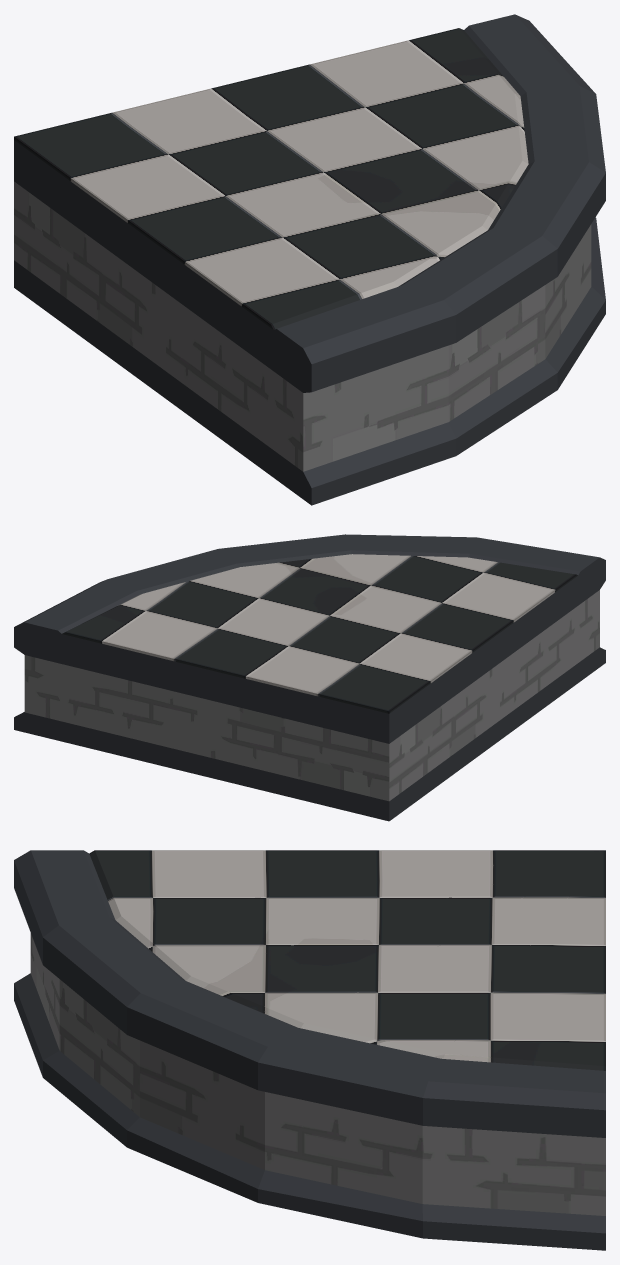
The model's file is SM_Prop_Platform_02_Corner_L_01.obj.
The picture shows the model from 3 angles, top to bottom: view 1: azimuth 30°, elevation 25°; view 2: azimuth 150°, elevation 25°; view 3: azimuth 270°, elevation 25°; orthographic projection. The views are drawn at different scales.
Parts seen in each view (by area): view 1: SM_Prop_Platform_02_Corner_L_01_2, SM_Prop_Platform_02_Corner_L_01_0, SM_Prop_Platform_02_Corner_L_01_1; view 2: SM_Prop_Platform_02_Corner_L_01_2, SM_Prop_Platform_02_Corner_L_01_0, SM_Prop_Platform_02_Corner_L_01_1; view 3: SM_Prop_Platform_02_Corner_L_01_2, SM_Prop_Platform_02_Corner_L_01_0, SM_Prop_Platform_02_Corner_L_01_1.
Part boxes in pixels (x1=…): SM_Prop_Platform_02_Corner_L_01_2: x1=14, y1=28, x2=528, y2=329; SM_Prop_Platform_02_Corner_L_01_0: x1=14, y1=14, x2=605, y2=505; SM_Prop_Platform_02_Corner_L_01_1: x1=14, y1=181, x2=591, y2=471; SM_Prop_Platform_02_Corner_L_01_2: x1=62, y1=554, x2=577, y2=713; SM_Prop_Platform_02_Corner_L_01_0: x1=14, y1=534, x2=605, y2=821; SM_Prop_Platform_02_Corner_L_01_1: x1=24, y1=590, x2=599, y2=801; SM_Prop_Platform_02_Corner_L_01_2: x1=89, y1=850, x2=605, y2=1070; SM_Prop_Platform_02_Corner_L_01_0: x1=14, y1=850, x2=605, y2=1250; SM_Prop_Platform_02_Corner_L_01_1: x1=30, y1=933, x2=605, y2=1215.
Bounding box in the file's own units: 1.78 × 0.5 × 1.78.
3 materials, 3 textured.
